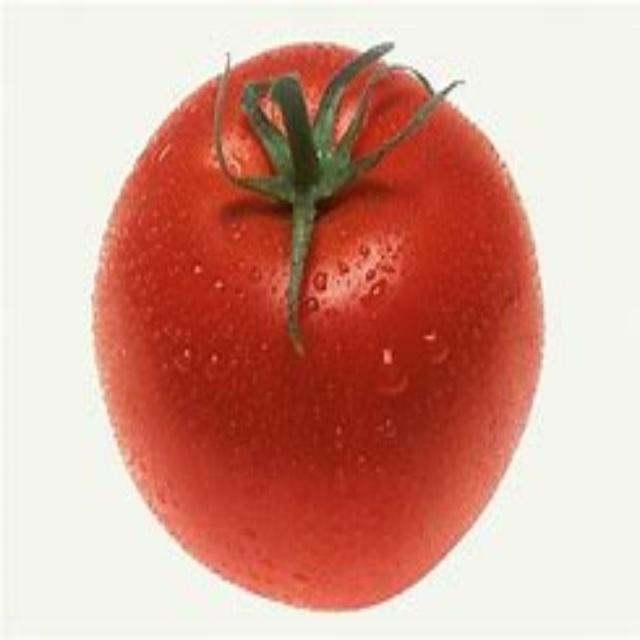tomato: (93, 45, 538, 606)
